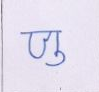u_matra: (47, 50, 67, 67)
